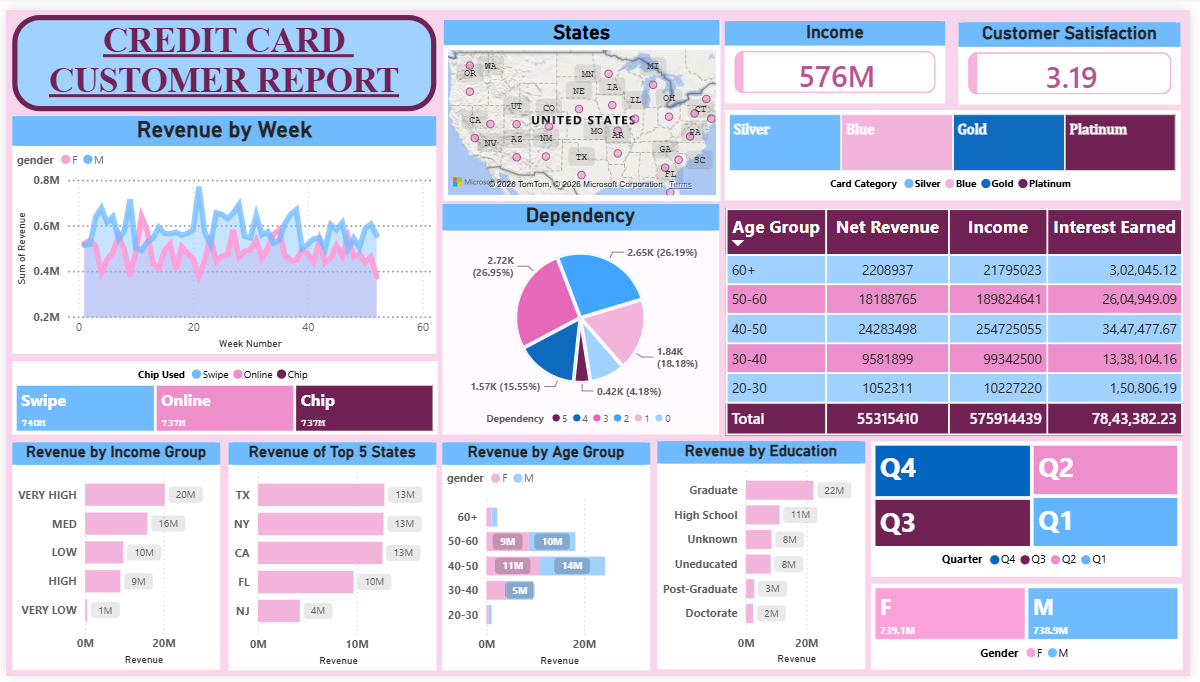

What the dashboard file says about the page in this screenshot:
{"tool":"powerbi","page":{"name":"Credit Card Customer","canvas":[1280,720],"ordinal":1},"visuals":[{"type":"textbox","box":[6.2,5,458.8,103.8],"z":0},{"type":"barChart","title":"Revenue by Income Group","fields":{"Y":["Sum(public creditcard_detail.Revenue)"],"Category":["public customer_detail.IncomeGroup"]},"box":[6.7,467.8,224.4,245.6],"z":1000},{"type":"tableEx","fields":{"Values":["public customer_detail.AgeGroup","Sum(public creditcard_detail.Revenue)","Sum(public customer_detail.income)","Sum(public creditcard_detail.interest_earned)"]},"box":[771.2,209.4,507.9,258.6],"z":2000},{"type":"cardVisual","title":"Customer Satisfaction","fields":{"Data":["Avg(public customer_detail.cust_satisfaction_score)"]},"box":[1030,13.1,240,88.5],"z":3000},{"type":"cardVisual","title":"Income","fields":{"Data":["Sum(public customer_detail.income)"]},"box":[777.7,11.5,238.5,88.5],"z":4000},{"type":"treemap","fields":{"Group":["public creditcard_detail.qtr"],"Values":["Avg(public creditcard_detail.client_num)"]},"box":[935.4,466.7,336.4,146.5],"z":5000},{"type":"treemap","fields":{"Group":["public customer_detail.gender"],"Values":["Avg(public creditcard_detail.client_num)"]},"box":[935.8,620.1,336.6,93],"z":6000},{"type":"treemap","fields":{"Group":["public creditcard_detail.card_category"],"Values":["Avg(public creditcard_detail.client_num)"]},"box":[777.7,108.3,492.4,97.5],"z":7000},{"type":"lineChart","title":"Revenue by Week","fields":{"Y":["Sum(public creditcard_detail.Revenue)"],"Series":["public customer_detail.gender"],"Category":["public creditcard_detail.week_number","public creditcard_detail.week_start_date.Variation.Date Hierarchy.Year","public creditcard_detail.week_start_date.Variation.Date Hierarchy.Quarter"]},"box":[6.7,115,457.5,256.7],"z":8000},{"type":"barChart","title":"Revenue by Age Group","fields":{"Y":["Sum(public creditcard_detail.Revenue)"],"Category":["public customer_detail.AgeGroup"],"Series":["public customer_detail.gender"]},"box":[472.2,467.8,224.4,246.7],"z":9000},{"type":"barChart","title":"Revenue by Education","fields":{"Y":["Sum(public creditcard_detail.Revenue)"],"Category":["public customer_detail.education_level"]},"box":[704.4,466.7,224.4,246.7],"z":10000},{"type":"barChart","title":"Revenue of Top 5 States","fields":{"Y":["Sum(public creditcard_detail.Revenue)"],"Category":["public customer_detail.state_cd"]},"box":[240,467.8,224.4,246.7],"z":11000},{"type":"map","title":"States","fields":{"Category":["public customer_detail.state_cd"]},"box":[472.7,11,298.7,195],"z":12000},{"type":"pieChart","title":"Dependency","fields":{"Category":["public customer_detail.dependent_count"],"Y":["CountNonNull(public customer_detail.gender)"]},"box":[471.8,209.2,298.9,249.6],"z":13000},{"type":"treemap","fields":{"Group":["public creditcard_detail.use_chip"],"Values":["Avg(public creditcard_detail.client_num)"]},"box":[6.2,379.4,459.8,79.4],"z":14000}]}

Visuals, with their boxes in screenshot pixels (x1, y1, x2, y2), scaled from the page's 1280x720 canvas onto the 1200x682 screenshot:
textbox: [6,5,436,103]
"Revenue by Income Group" barChart: [6,443,217,676]
tableEx - public customer_detail.AgeGroup x Sum(public creditcard_detail.Revenue): [723,198,1199,443]
"Customer Satisfaction" cardVisual: [966,12,1191,96]
"Income" cardVisual: [729,11,953,95]
treemap - public creditcard_detail.qtr x Avg(public creditcard_detail.client_num): [877,442,1192,581]
treemap - public customer_detail.gender x Avg(public creditcard_detail.client_num): [877,587,1193,675]
treemap - public creditcard_detail.card_category x Avg(public creditcard_detail.client_num): [729,103,1191,195]
"Revenue by Week" lineChart: [6,109,435,352]
"Revenue by Age Group" barChart: [443,443,653,677]
"Revenue by Education" barChart: [660,442,871,676]
"Revenue of Top 5 States" barChart: [225,443,435,677]
"States" map: [443,10,723,195]
"Dependency" pieChart: [442,198,723,435]
treemap - public creditcard_detail.use_chip x Avg(public creditcard_detail.client_num): [6,359,437,435]
